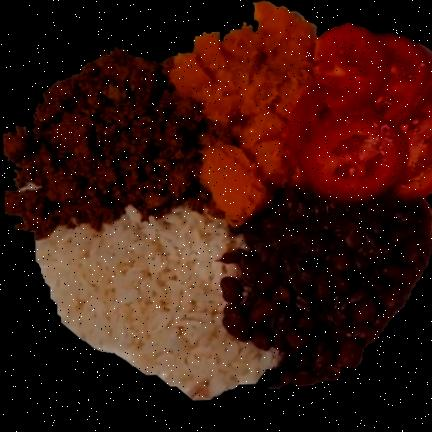beans: (218, 190, 432, 387)
meat: (3, 51, 226, 242)
rice: (32, 209, 280, 403)
tomato: (291, 25, 432, 200)
